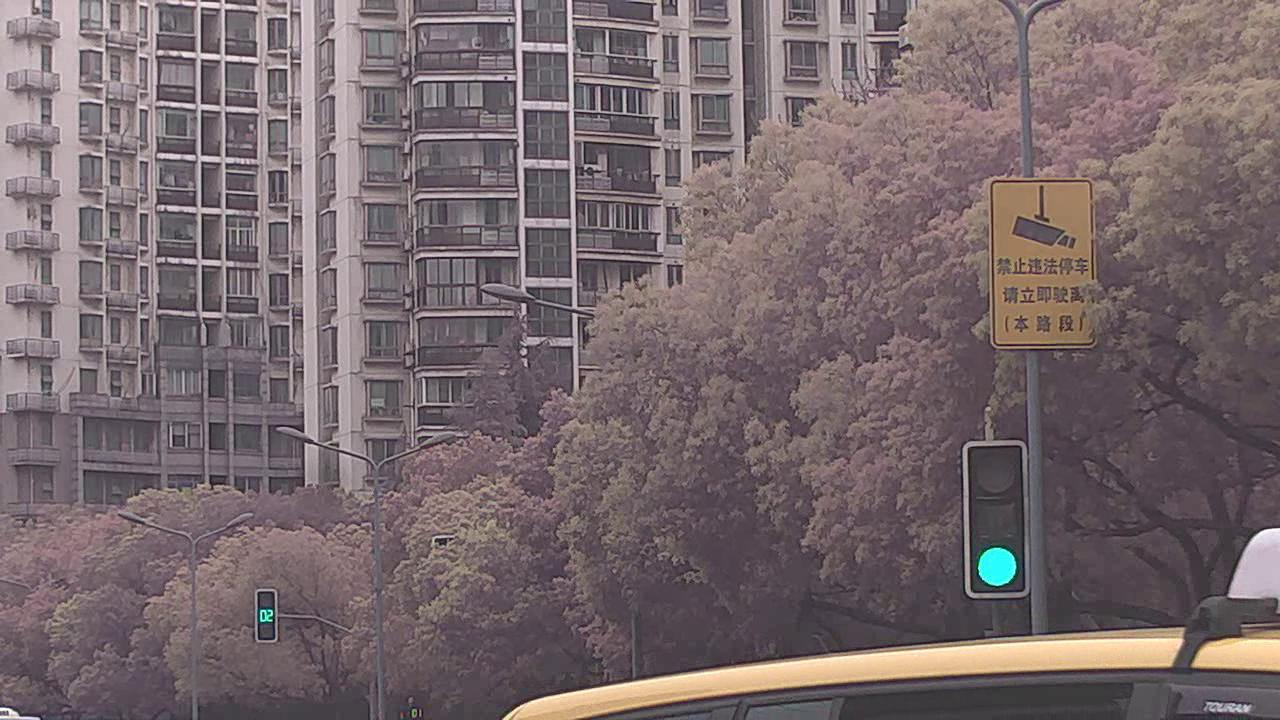traffic_light: (964, 440, 1030, 597), (254, 588, 278, 646)
